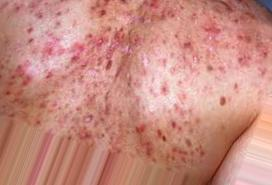Acne: (85, 1, 215, 50), (120, 30, 200, 97), (69, 91, 144, 159), (9, 2, 74, 78), (63, 22, 126, 82), (187, 51, 240, 120), (5, 59, 62, 119), (138, 99, 188, 158), (237, 27, 272, 97), (185, 23, 241, 62)
